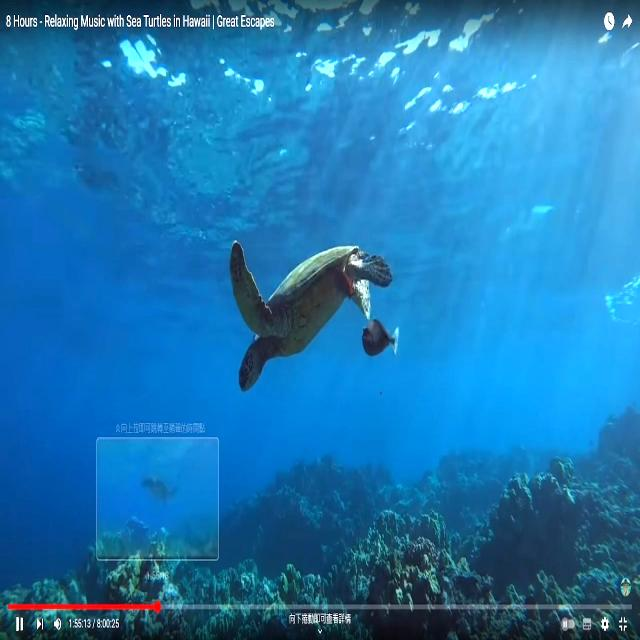Sea turtle: (228, 233, 394, 395)
